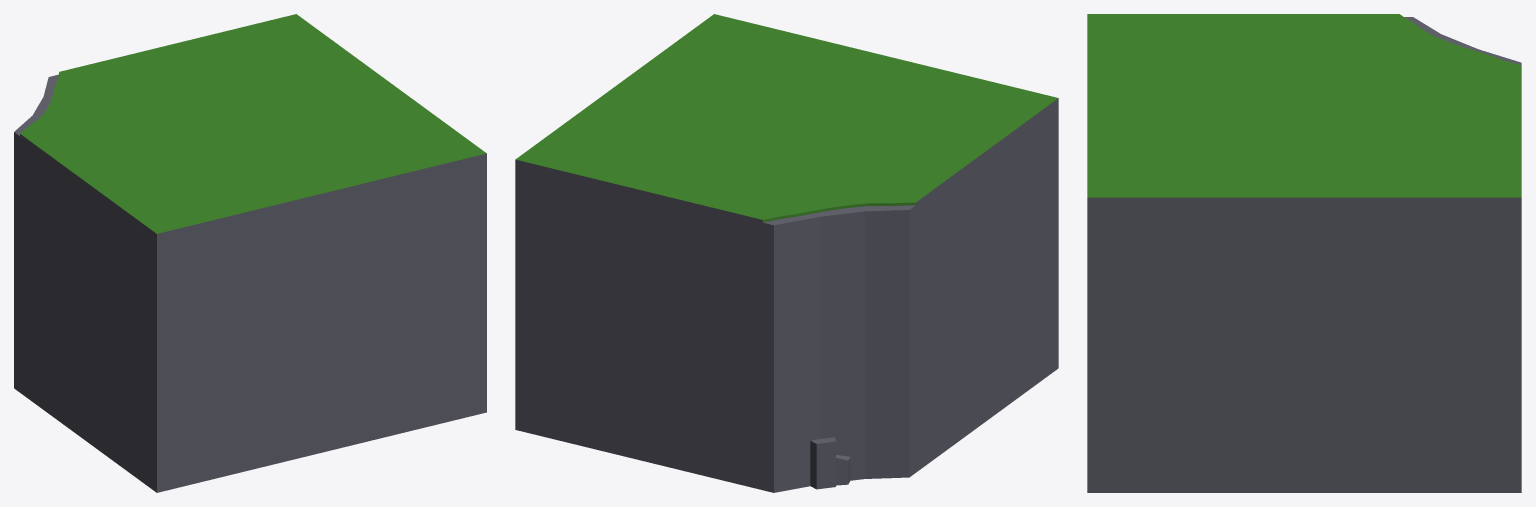
The model's file is Wedge1.fbx.
3 views of the same model, side by side, from view 1: azimuth 30°, elevation 25°; view 2: azimuth 150°, elevation 25°; view 3: azimuth 270°, elevation 25° (orthographic). The views are drawn at different scales.
Parts seen in each view (by area): view 1: Plane.001; view 2: Plane.001; view 3: Plane.001.
Part boxes in pixels (x1,y1,x2,y2): Plane.001: [14, 14, 486, 492]; Plane.001: [515, 14, 1058, 492]; Plane.001: [1087, 14, 1521, 492].
Bounding box in the file's own units: 100 × 75 × 100.
